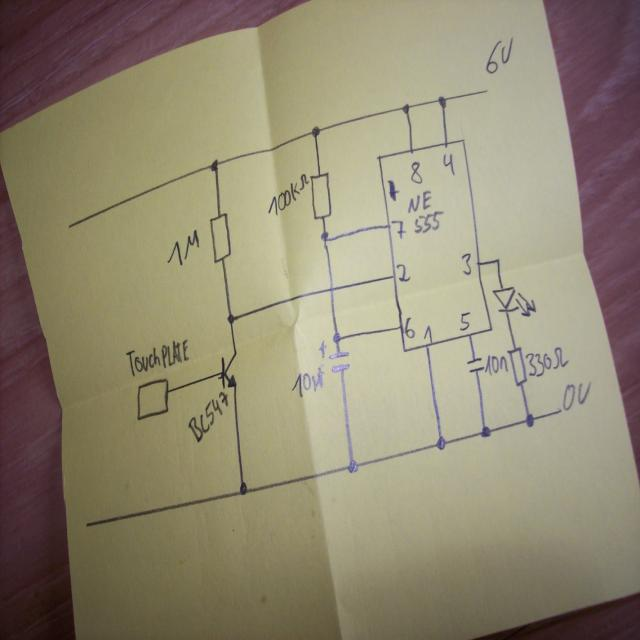capacitor: (318, 340, 351, 373), (466, 356, 484, 374)
crossover: (327, 283, 336, 295)
diode: (491, 285, 536, 318)
junction: (320, 230, 331, 248), (524, 412, 534, 428), (435, 436, 446, 450), (437, 95, 447, 110), (348, 459, 358, 474), (480, 426, 492, 438), (210, 158, 220, 172), (238, 481, 248, 495), (310, 125, 320, 138), (332, 331, 342, 343), (401, 103, 410, 114), (226, 314, 235, 324), (494, 256, 501, 264)
resistor: (209, 211, 232, 263), (310, 171, 332, 220), (507, 345, 527, 387)
terminal: (136, 377, 170, 421), (65, 221, 74, 230), (482, 86, 490, 96), (83, 520, 92, 528), (557, 407, 563, 415)
text: (125, 338, 190, 377), (187, 390, 229, 442), (267, 173, 309, 215), (406, 189, 444, 234), (524, 346, 570, 378), (290, 362, 326, 398), (166, 228, 200, 266), (485, 35, 513, 74), (561, 380, 592, 411), (484, 354, 508, 376), (390, 218, 406, 240), (409, 160, 423, 185), (442, 152, 456, 176), (395, 262, 411, 282), (460, 252, 472, 276), (404, 316, 416, 338), (459, 310, 470, 330), (422, 324, 432, 342)
transistor: (217, 350, 239, 390)
